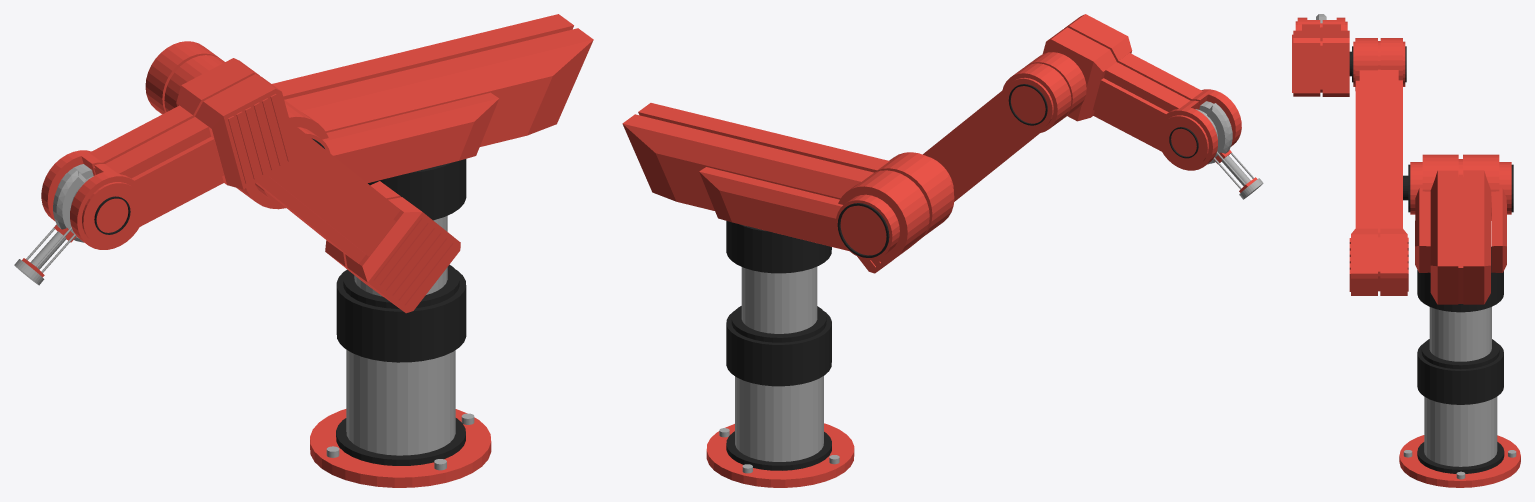
Rendered from Robot.fbx.
The picture shows the model from 3 angles, left to right: view 1: azimuth 30°, elevation 25°; view 2: azimuth 150°, elevation 25°; view 3: azimuth 270°, elevation 25°; orthographic projection. The views are drawn at different scales.
Visible parts, largest first — view 1: Куб.006, 3, 1, 0, 2; view 2: 3, Куб.006, 1, 2, 0; view 3: Куб.006, 3, 1, 2, 0.
Boxes of the visible parts, x1,y1,x2,y2 form: Куб.006: (14,41,460,313); 3: (236,14,593,209); 1: (336,264,466,455); 0: (310,409,491,487); 2: (354,159,466,296); 3: (622,103,954,261); Куб.006: (857,14,1263,273); 1: (726,306,831,461); 2: (726,221,831,333); 0: (706,423,854,487); Куб.006: (1292,14,1408,295); 3: (1408,154,1513,304); 1: (1417,339,1503,466); 2: (1417,247,1503,361); 0: (1399,435,1520,487).
Bounding box in the file's own units: 473 × 350 × 211.
